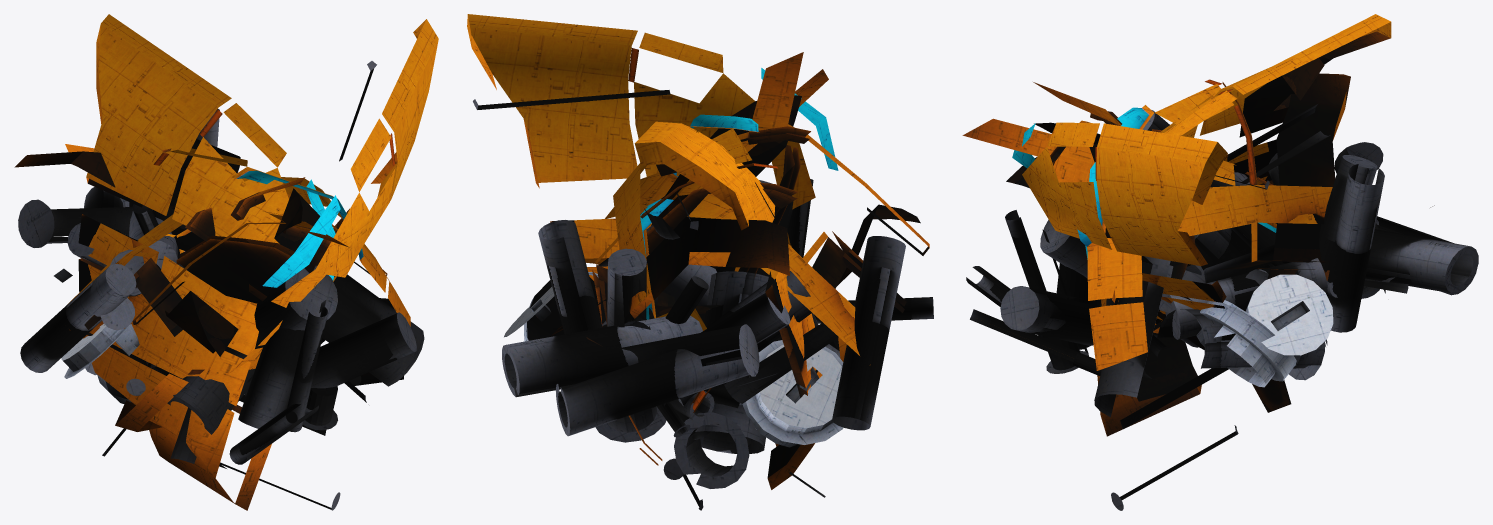
Rendered from MonsterA_die8.obj.
The picture shows the model from 3 angles, left to right: view 1: azimuth 30°, elevation 25°; view 2: azimuth 150°, elevation 25°; view 3: azimuth 270°, elevation 25°; orthographic projection. The views are drawn at different scales.
Visible parts, largest first — view 1: Box001; view 2: Box001; view 3: Box001.
Part boxes in pixels (left/top/right/bottom): Box001: left=14, top=14, right=438, bottom=510; Box001: left=467, top=14, right=933, bottom=510; Box001: left=962, top=14, right=1478, bottom=510.
Size of the model in its own units: 233 by 241 by 256.
Materials: 1 (1 with a texture image).
